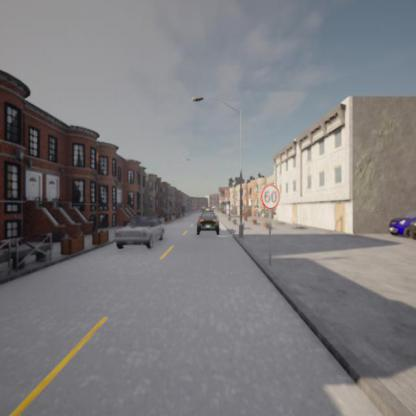traffic_sign_60: (261, 183, 281, 210)
vehicle: (114, 215, 165, 248), (388, 211, 415, 238), (196, 213, 218, 235)
